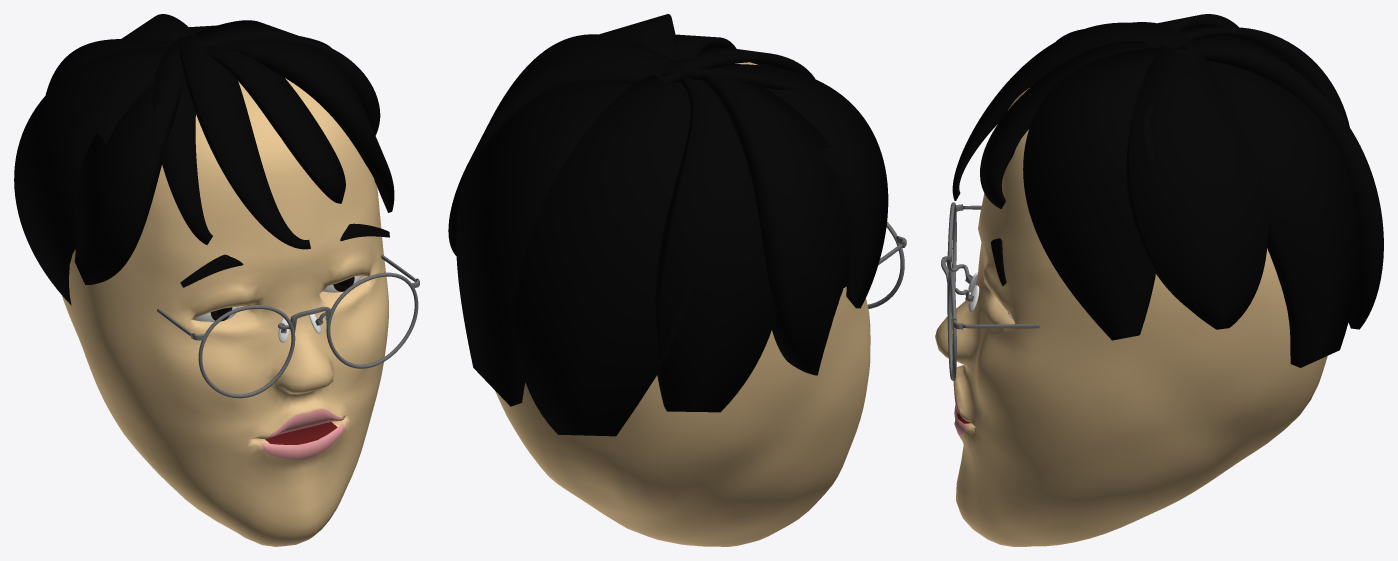
File: KT_Clone.fbx
The picture shows the model from 3 angles, left to right: view 1: azimuth 30°, elevation 25°; view 2: azimuth 150°, elevation 25°; view 3: azimuth 270°, elevation 25°; orthographic projection. The views are drawn at different scales.
Parts seen in each view (by area): view 1: 얼굴, 머리카락8, 머리카락9, 머리카락4, 머리카락, 머리카락3, 머리카락5, 안경, 머리카락1, 머리카락7, 머리카락10, 머리카락2; view 2: 얼굴, 머리카락2, 머리카락7, 머리카락6, 머리카락8, 머리카락9, 머리카락1, 머리카락4, 머리카락, 머리카락5, 머리카락3, 안경; view 3: 얼굴, 머리카락1, 머리카락, 머리카락6, 머리카락2, 머리카락4, 머리카락3, 안경, 머리카락7, 머리카락8.
Part boxes in pixels (x1,y1,x2,y2): 얼굴: [62, 78, 388, 546]; 머리카락8: [14, 46, 169, 305]; 머리카락9: [74, 65, 184, 284]; 머리카락4: [179, 36, 310, 249]; 머리카락: [207, 35, 394, 212]; 머리카락3: [205, 48, 345, 203]; 머리카락5: [152, 35, 212, 244]; 안경: [157, 254, 419, 398]; 머리카락1: [195, 20, 380, 135]; 머리카락7: [45, 39, 175, 94]; 머리카락10: [180, 223, 389, 287]; 머리카락2: [121, 14, 198, 41]; 얼굴: [495, 62, 870, 546]; 머리카락2: [515, 75, 705, 436]; 머리카락7: [655, 76, 777, 412]; 머리카락6: [456, 81, 633, 406]; 머리카락8: [702, 73, 849, 375]; 머리카락9: [717, 64, 888, 308]; 머리카락1: [448, 34, 680, 255]; 머리카락4: [660, 46, 815, 83]; 머리카락: [521, 14, 675, 76]; 머리카락5: [661, 66, 808, 90]; 머리카락3: [674, 34, 736, 60]; 안경: [867, 221, 906, 308]; 얼굴: [935, 88, 1327, 546]; 머리카락1: [1126, 44, 1267, 329]; 머리카락: [1023, 47, 1158, 340]; 머리카락6: [1207, 60, 1362, 367]; 머리카락2: [1189, 35, 1383, 329]; 머리카락4: [952, 22, 1200, 200]; 머리카락3: [980, 41, 1151, 208]; 안경: [941, 202, 1039, 380]; 머리카락7: [1179, 27, 1349, 127]; 머리카락8: [1158, 14, 1238, 32].
Bounding box in the file's own units: 190 × 260 × 213.
